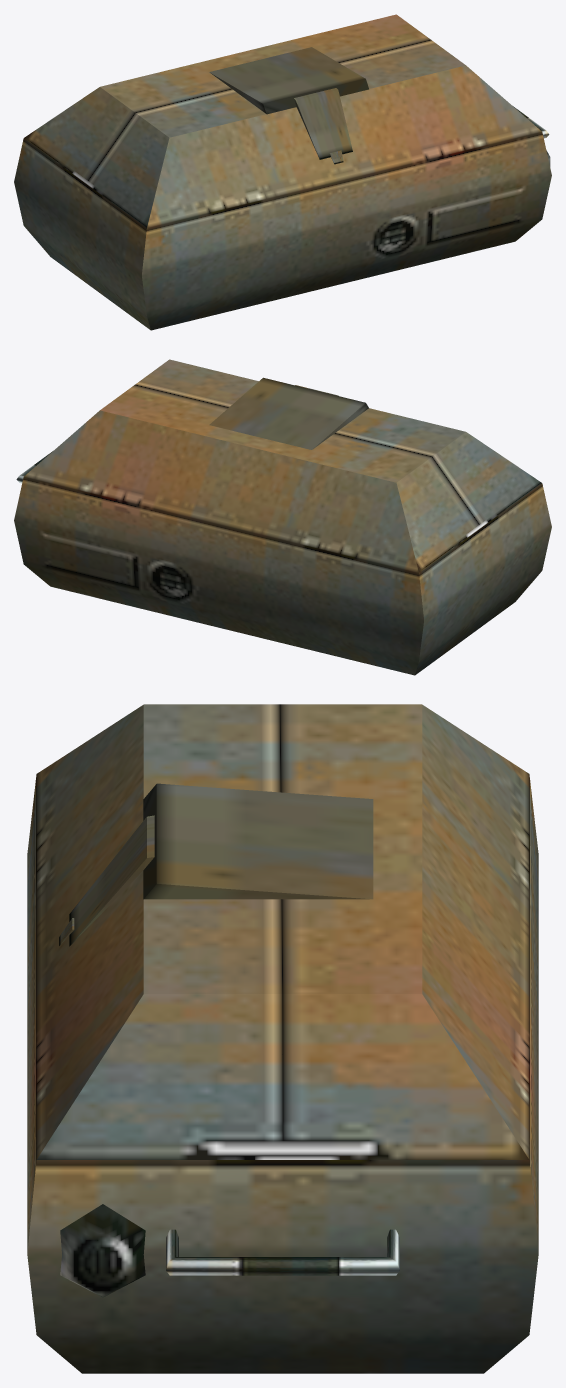
The model's file is eqp_tool_vehicle_toolkit_l0.fbx.
3 views of the same model, one above another, from view 1: azimuth 30°, elevation 25°; view 2: azimuth 150°, elevation 25°; view 3: azimuth 270°, elevation 25° (orthographic). The views are drawn at different scales.
Parts seen in each view (by area): view 1: mesh_node; view 2: mesh_node; view 3: mesh_node.
Boxes of the visible parts, x1,y1,x2,y2 form: mesh_node: [14, 14, 551, 330]; mesh_node: [14, 359, 551, 675]; mesh_node: [27, 704, 538, 1373].
Size of the model in its own units: 0.3511 by 0.1373 by 0.1757.
Materials: 1 (1 with a texture image).
